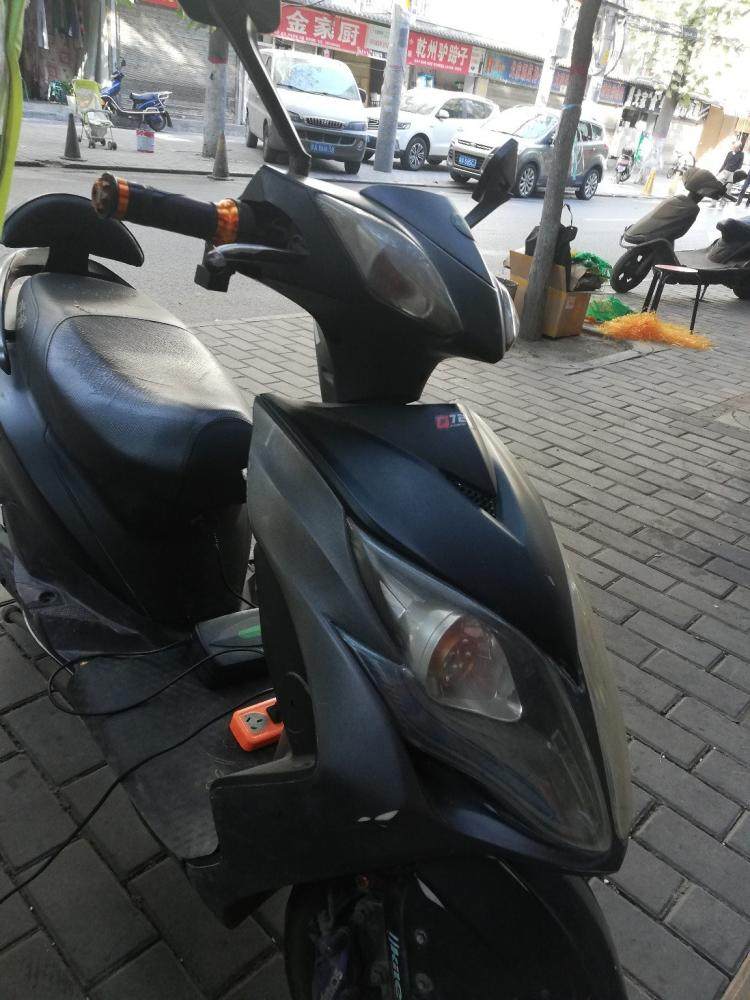电动车: (1, 1, 642, 996)
